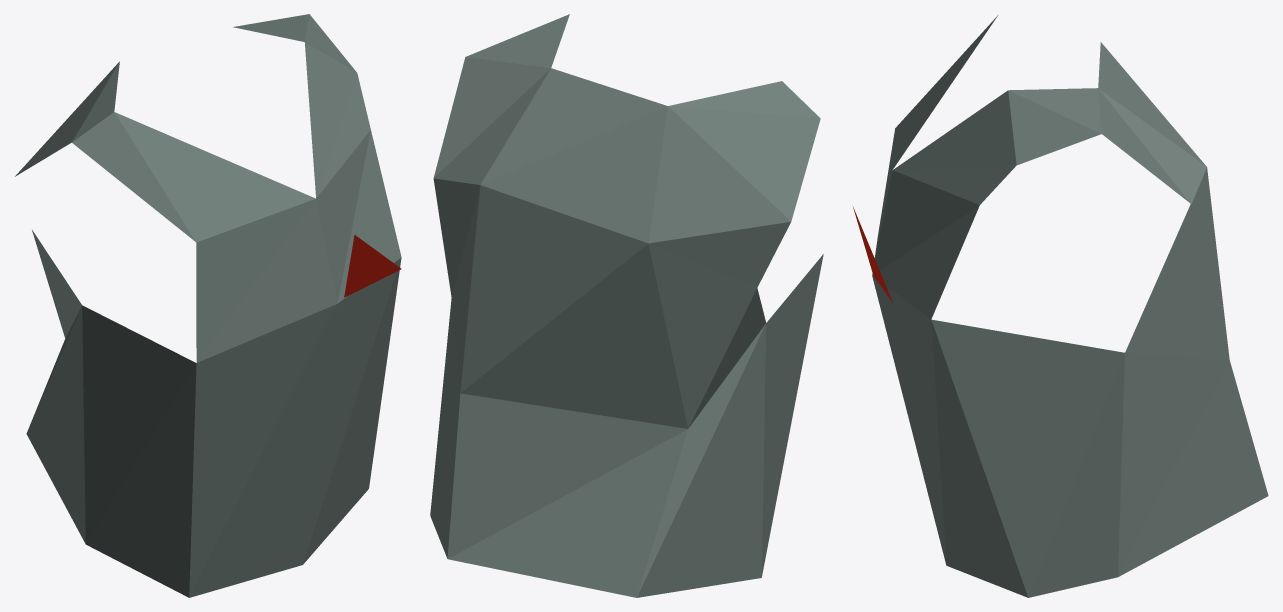
The picture shows the model from 3 angles, left to right: view 1: azimuth 30°, elevation 25°; view 2: azimuth 150°, elevation 25°; view 3: azimuth 270°, elevation 25°; orthographic projection. The views are drawn at different scales.
Bounding box in the file's own units: 0.532 × 0.7702 × 0.5892.
2 materials, 2 textured.
